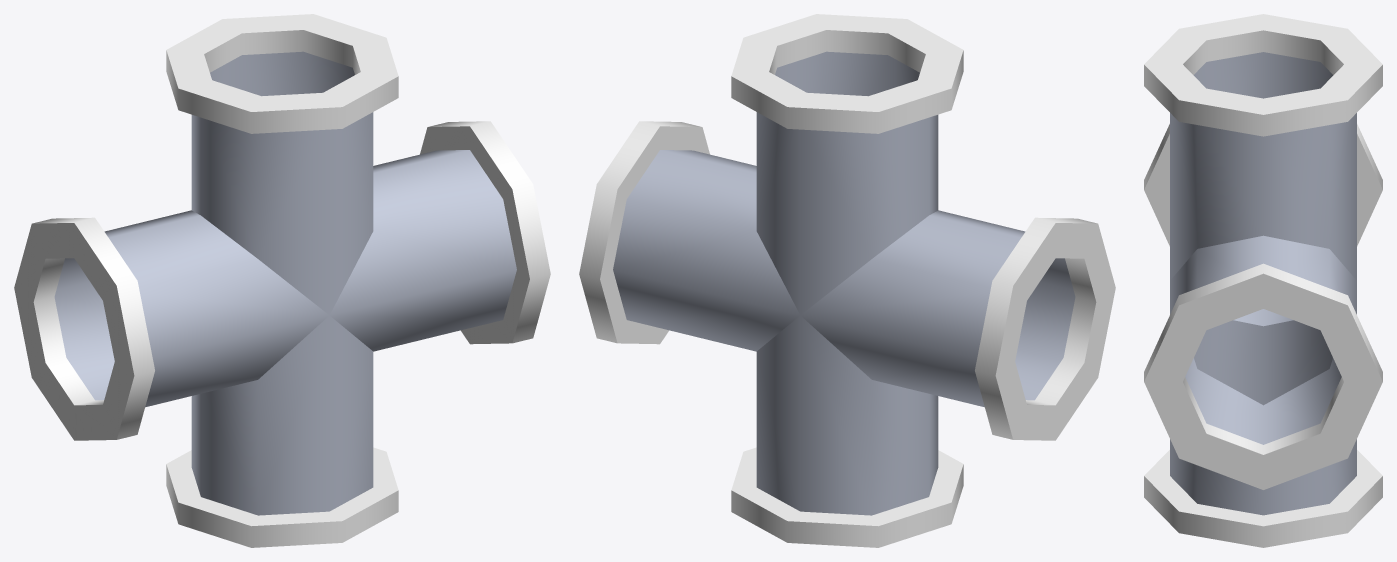
File: pipe-glass-large-cross.glb
3 views of the same model, side by side, from view 1: azimuth 30°, elevation 25°; view 2: azimuth 150°, elevation 25°; view 3: azimuth 270°, elevation 25° (orthographic).
Parts seen in each view (by area): view 1: pipe-glass-large-cross; view 2: pipe-glass-large-cross; view 3: pipe-glass-large-cross.
Part boxes in pixels (x1=…): pipe-glass-large-cross: x1=14, y1=14, x2=550, y2=547; pipe-glass-large-cross: x1=579, y1=14, x2=1115, y2=547; pipe-glass-large-cross: x1=1144, y1=14, x2=1382, y2=547.
Size of the model in its own units: 2 by 2 by 1.
